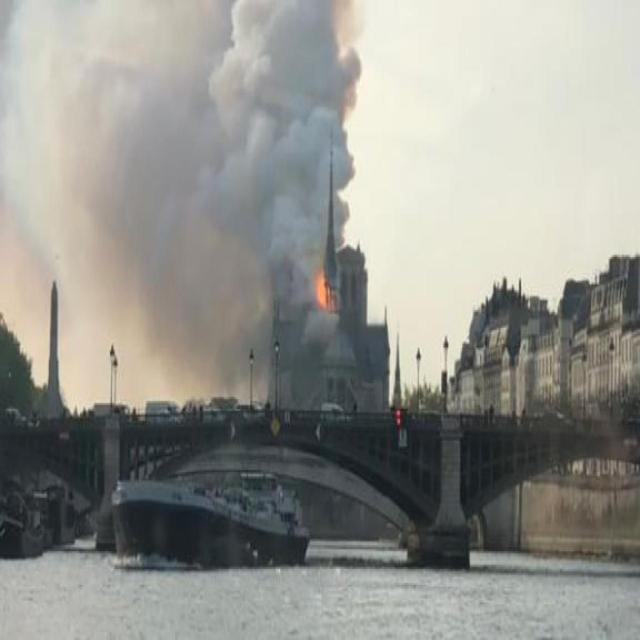Fire: (316, 257, 337, 316)
Smoke: (0, 0, 363, 385)
